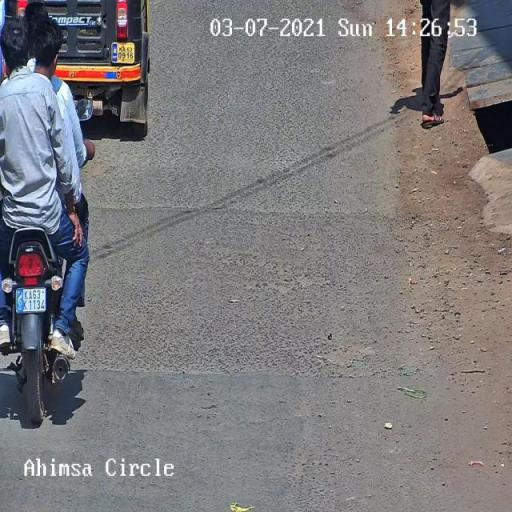tripple riding: (0, 0, 95, 227)
